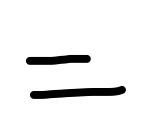eqv: (26, 54, 127, 101)
